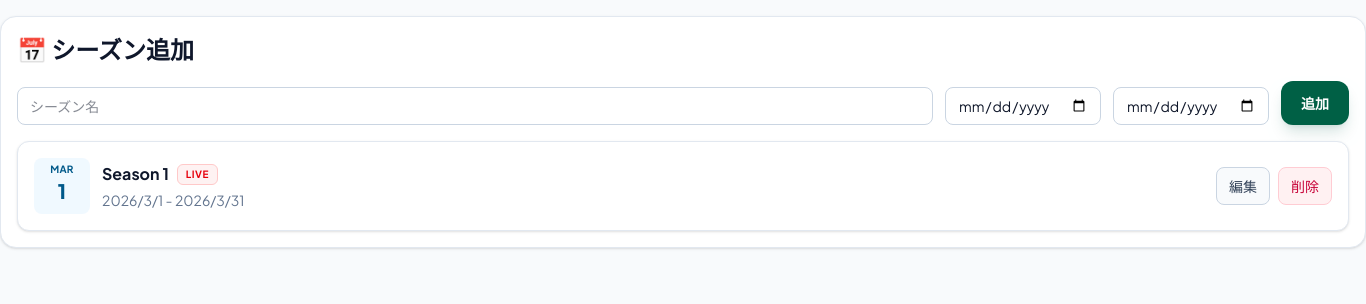
SeasonManager › updates a season
The image size is (1366, 304).
Click the button "編集": coordinates (1243, 186) [1216,167,1270,205]
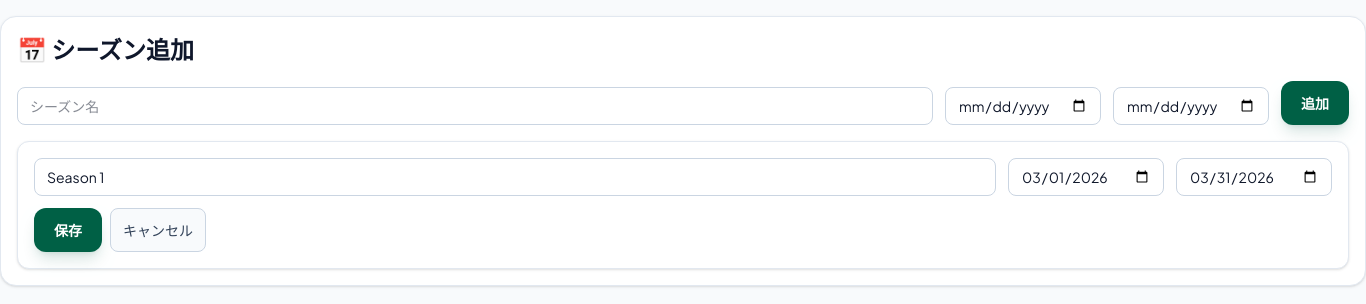
Replace the text in the 2nd field with "Season X": coordinates (515, 177) [34,158,996,196]
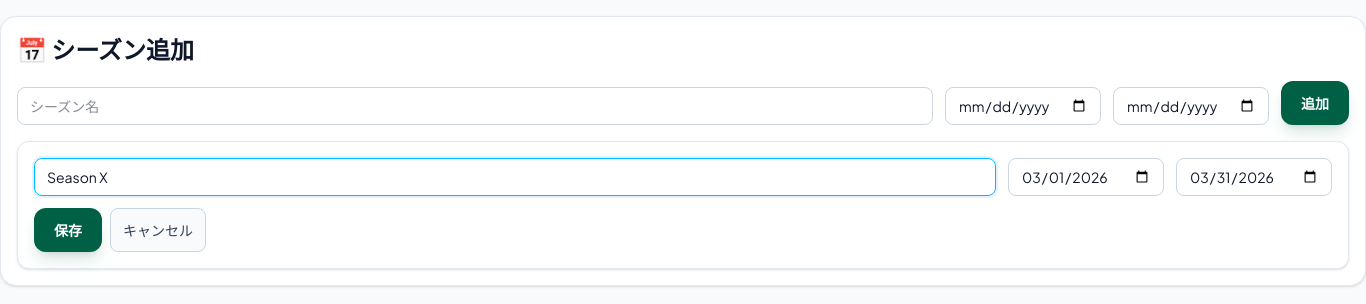
In the 3rd date field: coordinates (1086, 177) [1008,158,1164,196], type "2026-04-01"
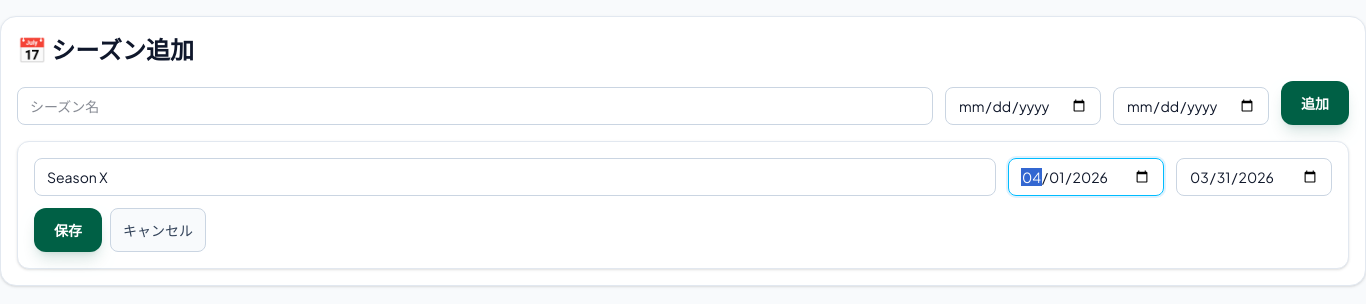
In the 4th date field: coordinates (1254, 177) [1176,158,1332,196], type "2026-04-30"
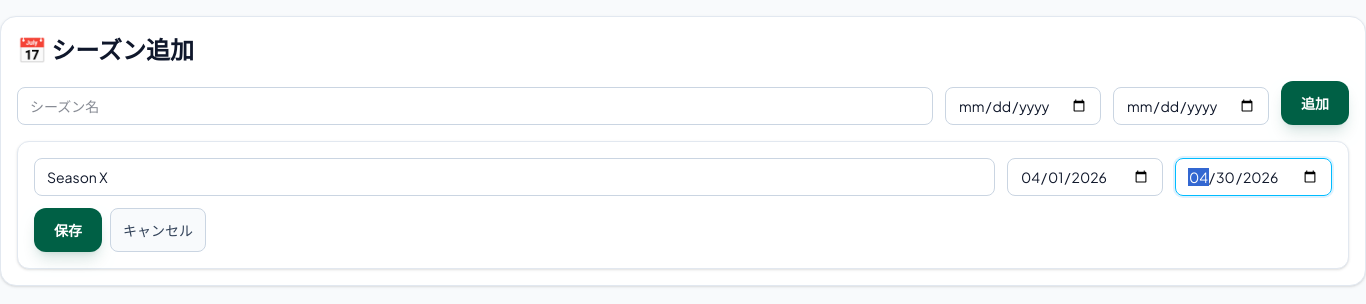
Click the button "保存": coordinates (68, 230) [34,208,102,252]
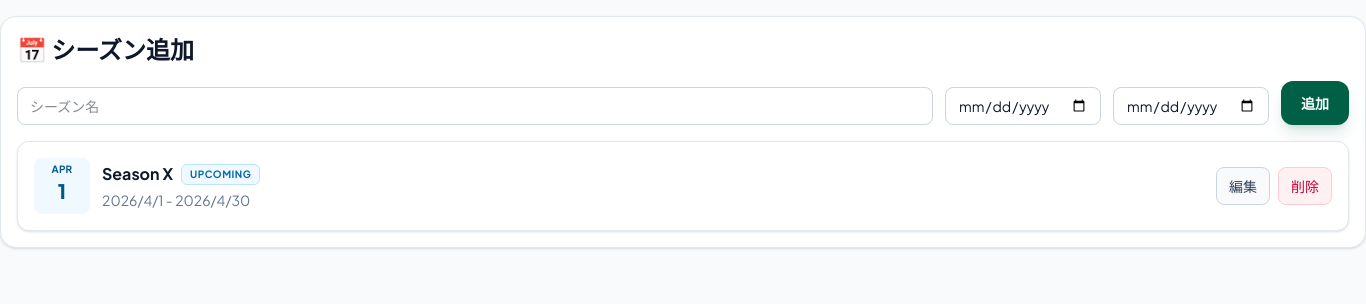
Expected: the text "Season X" is shown, [102,162,173,186]
